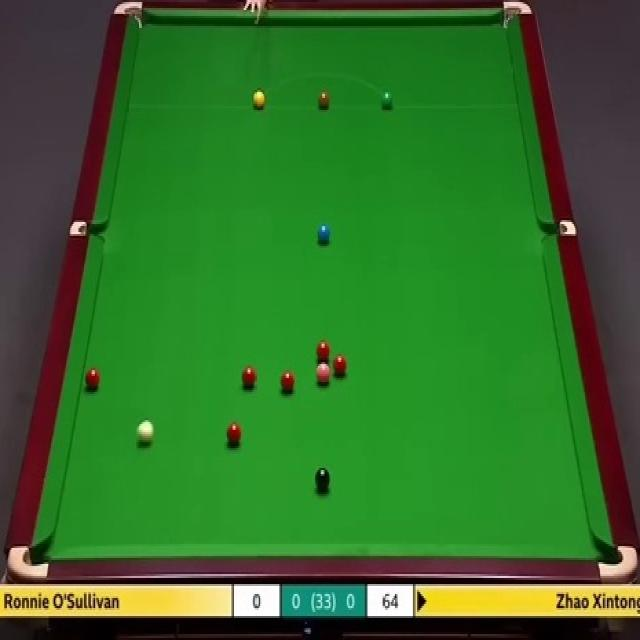black-ball: (317, 468, 330, 490)
blue-ball: (316, 225, 331, 242)
brown-ball: (317, 91, 330, 109)
green-ball: (380, 88, 395, 110)
pink-ball: (316, 362, 332, 383)
red-ball: (85, 366, 100, 393), (225, 420, 240, 447), (242, 366, 257, 388), (281, 372, 296, 394), (333, 355, 348, 377), (317, 342, 330, 360)
white-ball: (138, 420, 153, 444)
yellow-ball: (253, 90, 265, 110)
